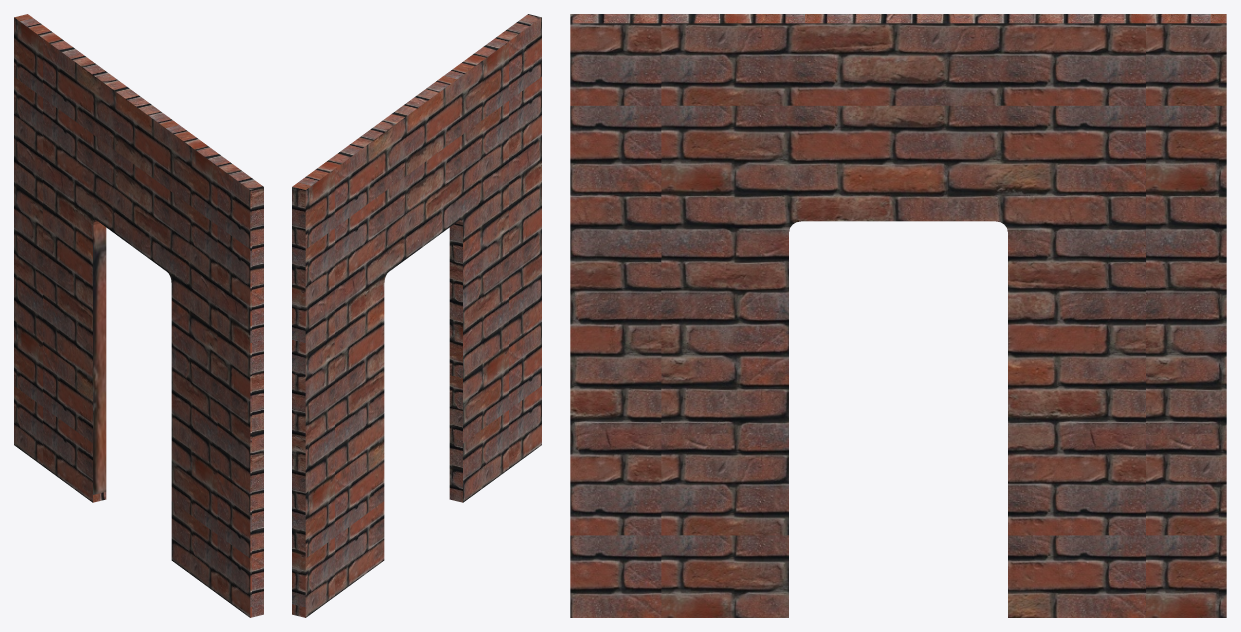
File: Door_Wall.fbx
3 views of the same model, side by side, from view 1: azimuth 30°, elevation 25°; view 2: azimuth 150°, elevation 25°; view 3: azimuth 270°, elevation 25° (orthographic). The views are drawn at different scales.
Parts seen in each view (by area): view 1: Cube.024; view 2: Cube.024; view 3: Cube.024.
Boxes of the visible parts, x1,y1,x2,y2 form: Cube.024: [14, 14, 263, 617]; Cube.024: [292, 14, 541, 617]; Cube.024: [570, 14, 1226, 617].
Bounding box in the file's own units: 10 × 300 × 300.
Materials: 1 (1 with a texture image).
